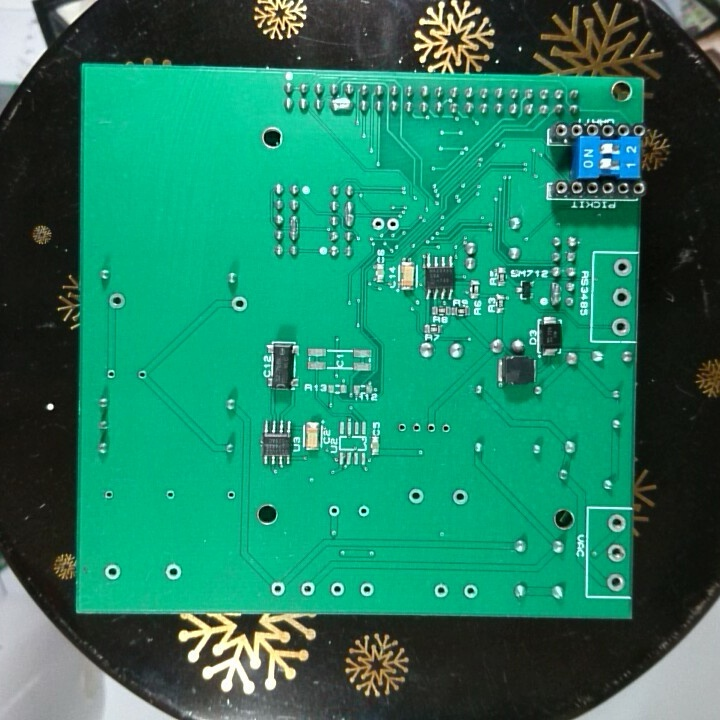F: (603, 541, 629, 566), (610, 284, 634, 309), (611, 255, 634, 279), (605, 511, 627, 535), (405, 484, 426, 509), (449, 486, 471, 509), (105, 290, 128, 312), (605, 569, 626, 593), (162, 560, 183, 584), (460, 581, 482, 603), (229, 294, 250, 315), (610, 315, 629, 338), (102, 562, 122, 583), (431, 581, 451, 601), (357, 580, 377, 600), (298, 578, 317, 599), (268, 578, 287, 599), (386, 214, 402, 235), (328, 580, 345, 598), (355, 503, 373, 520), (326, 503, 343, 520), (369, 215, 385, 233), (438, 420, 454, 438), (162, 486, 178, 503), (135, 367, 151, 383), (224, 486, 238, 504), (423, 420, 437, 438), (410, 419, 423, 438), (103, 366, 119, 381), (102, 487, 115, 503), (395, 419, 408, 435)
P: (328, 95, 354, 116), (548, 278, 564, 309), (287, 212, 302, 242), (342, 198, 357, 227)
